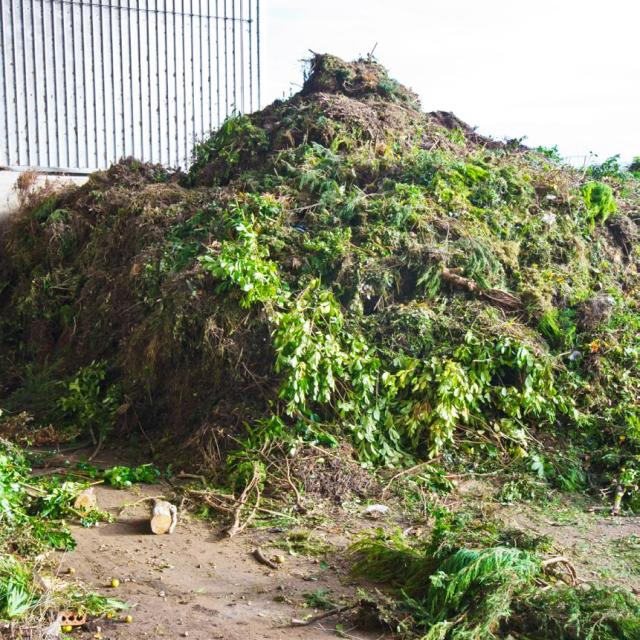others: (180, 117, 408, 449), (416, 166, 621, 454), (14, 172, 176, 414)
